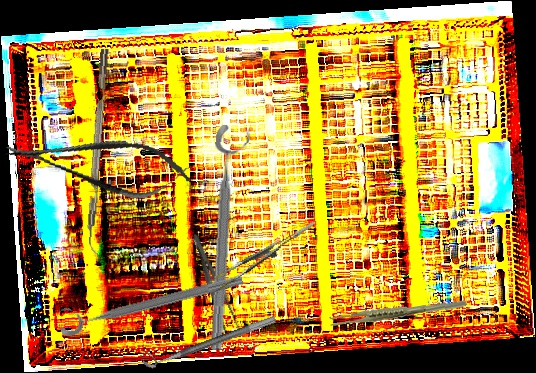Chopper: (83, 48, 119, 255)
Dressing Forceps: (184, 230, 246, 343)
Fixation Ring: (55, 260, 245, 338), (204, 124, 253, 352), (137, 304, 278, 372)
Micro Scissor: (0, 119, 197, 208)
Tissue Forceps: (201, 221, 325, 294), (328, 292, 467, 334)
